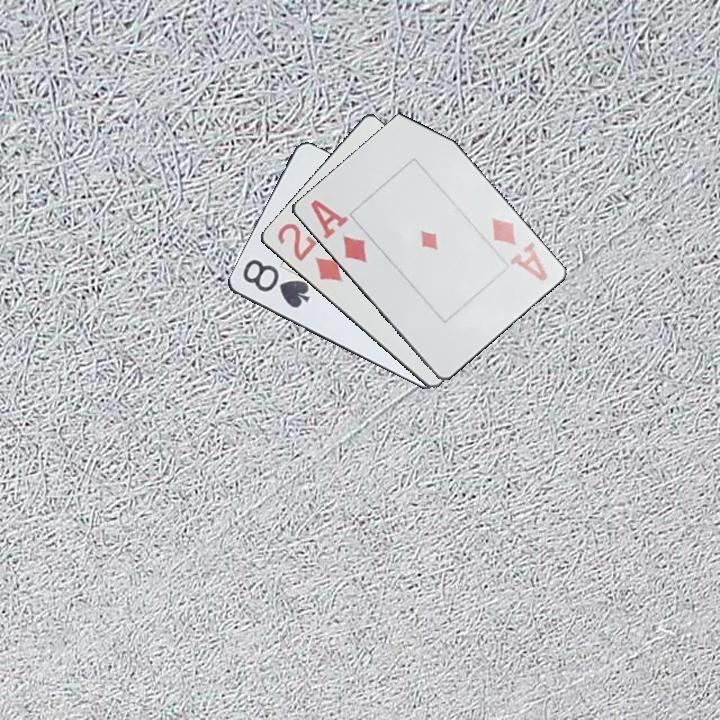2d: (271, 219, 346, 285)
8s: (239, 256, 313, 311)
Ad: (306, 196, 370, 266), (487, 214, 550, 284)
